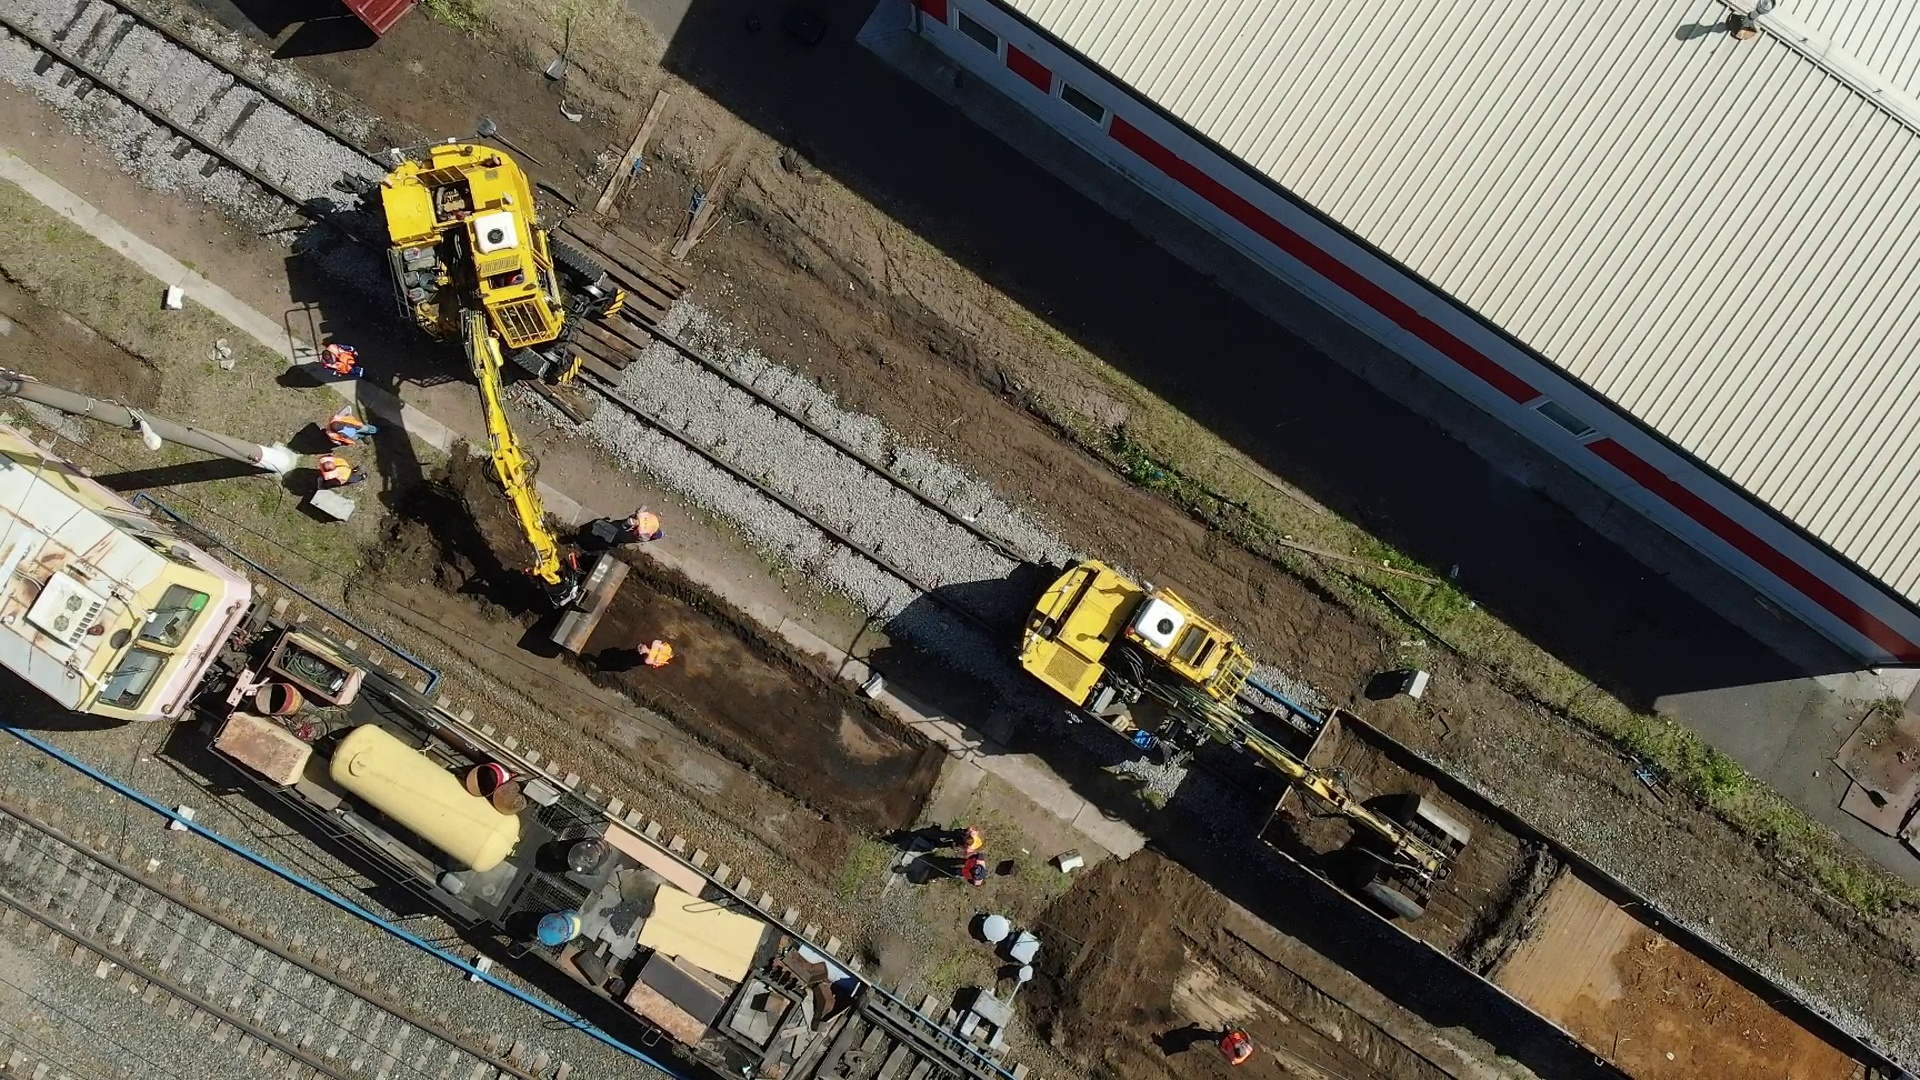kjtv: (361, 132, 620, 377), (1015, 559, 1241, 775)
